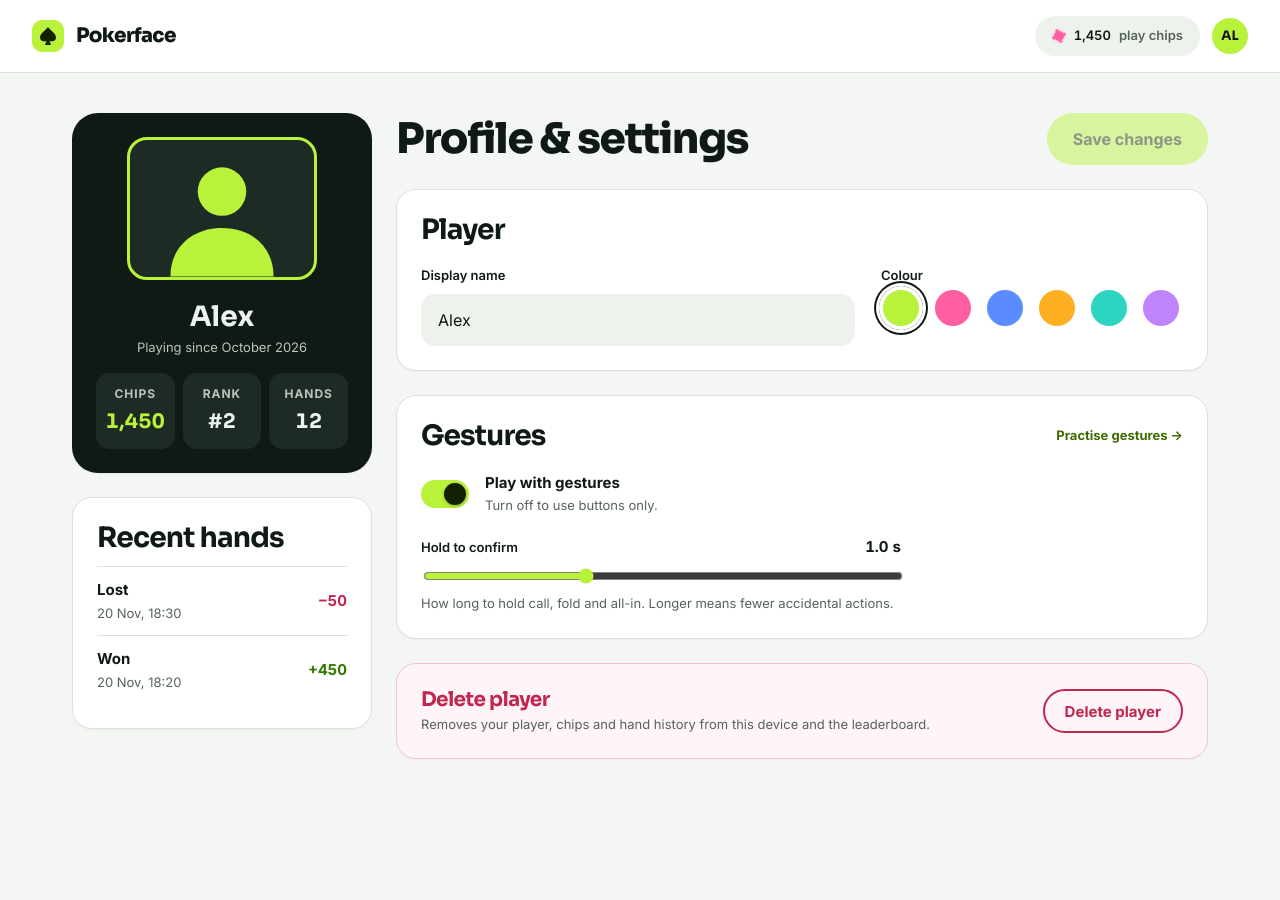
Test: ProfilePage › turns gestures off, which also disables the hold time
The width and height of the screenshot is (1280, 900).
Click the switch labelled "Play with gestures Turn off to use buttons only." at (445,494), box x1=421 y1=480 x2=469 y2=508
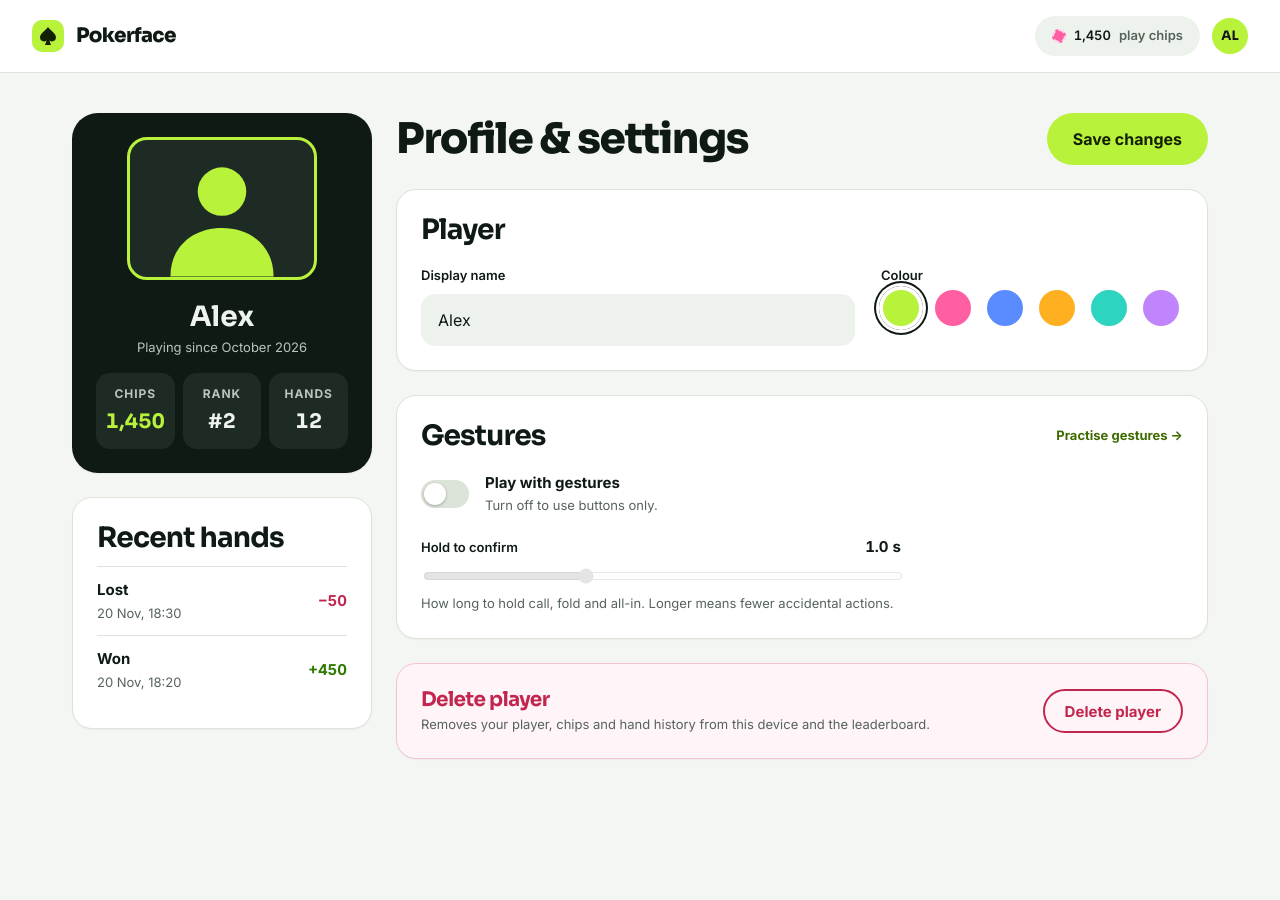
Check: the slider labelled "Hold to confirm" is disabled, box x1=423 y1=568 x2=903 y2=584
Click the button "Save changes" at (1127,139), box x1=1047 y1=113 x2=1208 y2=165
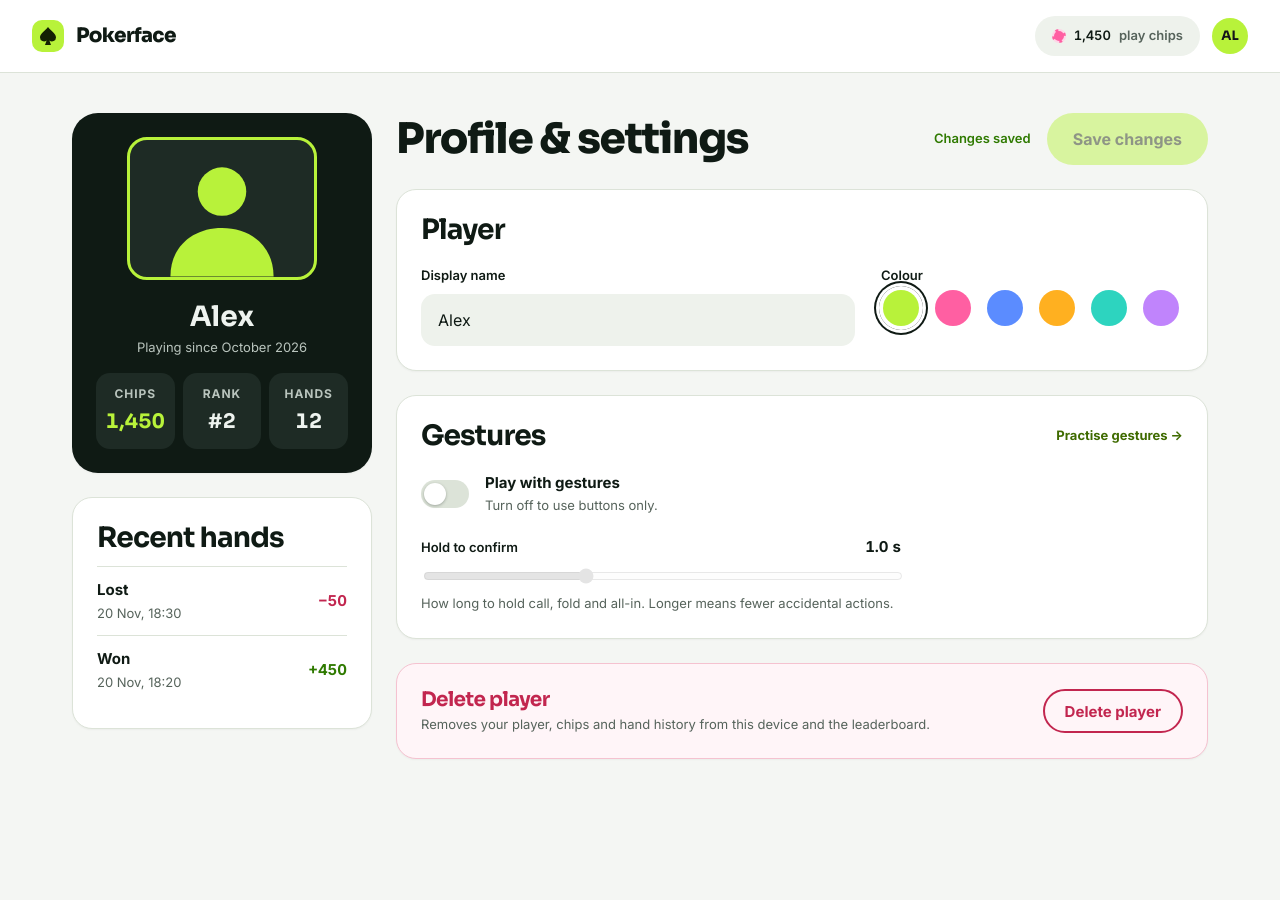
Check: the message "Changes saved" is shown, box x1=934 y1=129 x2=1031 y2=149
